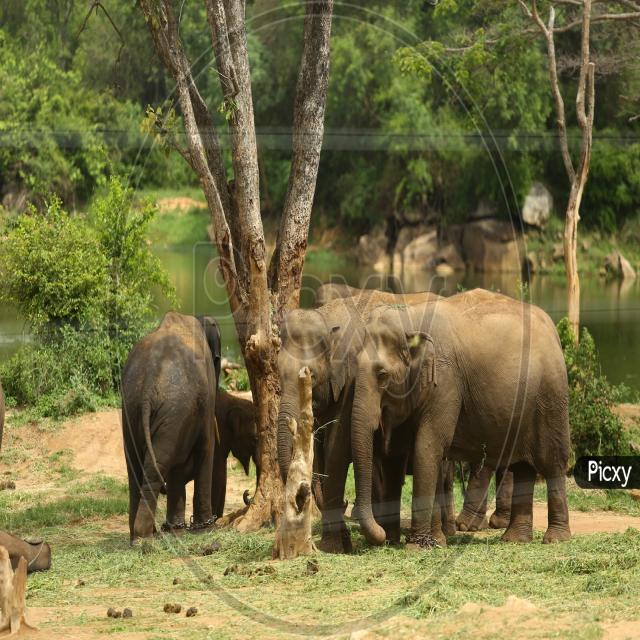Elephant: (351, 295, 576, 564), (118, 312, 229, 548), (264, 296, 342, 527)
